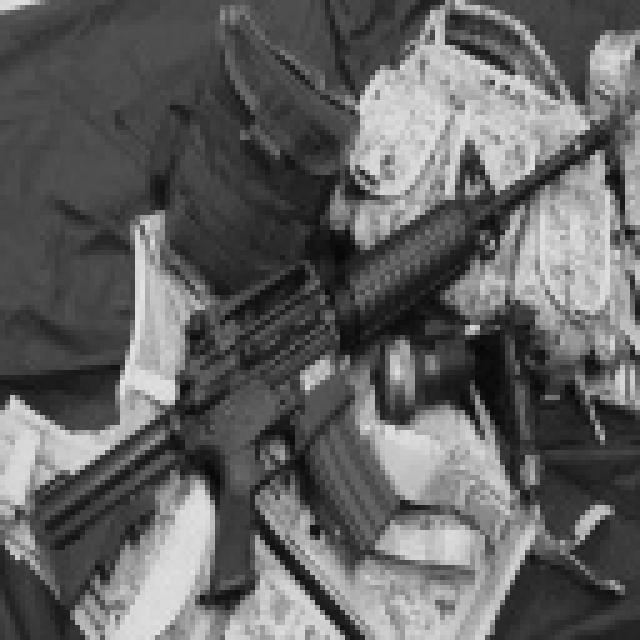Rifle: (3, 33, 640, 626)
